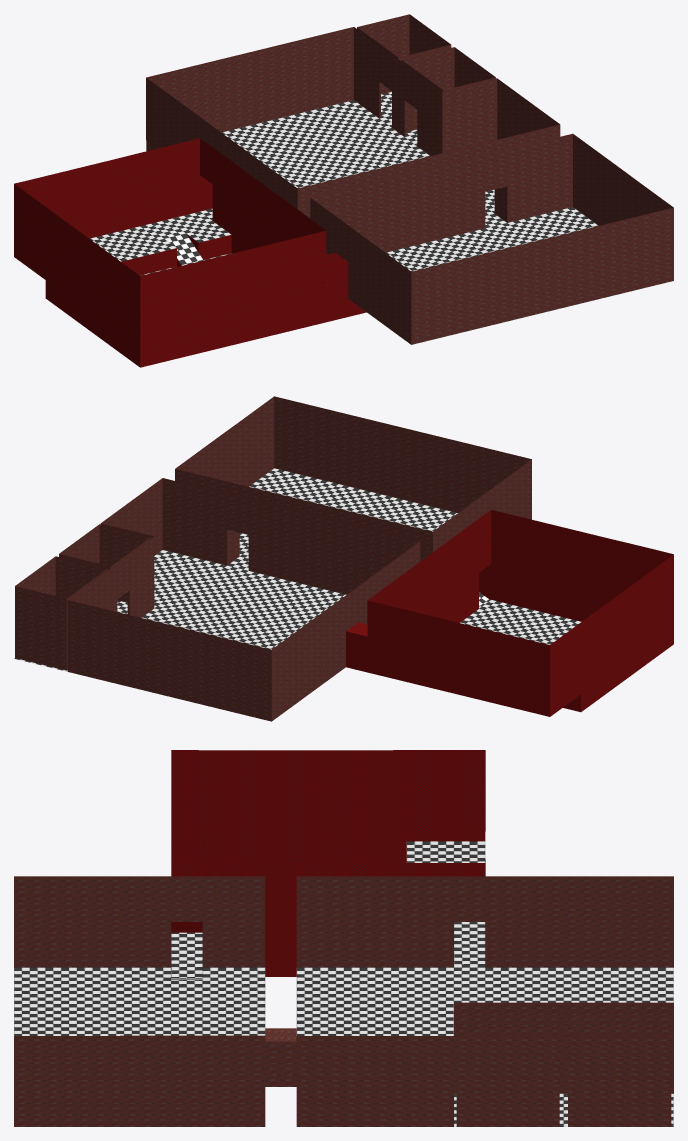
File: level_layout.FBX
3 views of the same model, one above another, from view 1: azimuth 30°, elevation 25°; view 2: azimuth 150°, elevation 25°; view 3: azimuth 270°, elevation 25° (orthographic). The views are drawn at different scales.
Visible parts, largest first — view 1: bar_floor; view 2: bar_floor; view 3: bar_floor.
Part boxes in pixels (<box>): bar_floor: <box>14,14,673,367</box>; bar_floor: <box>14,396,673,721</box>; bar_floor: <box>14,750,673,1126</box>.
Bounding box in the file's own units: 53.75 × 10.03 × 52.49.
